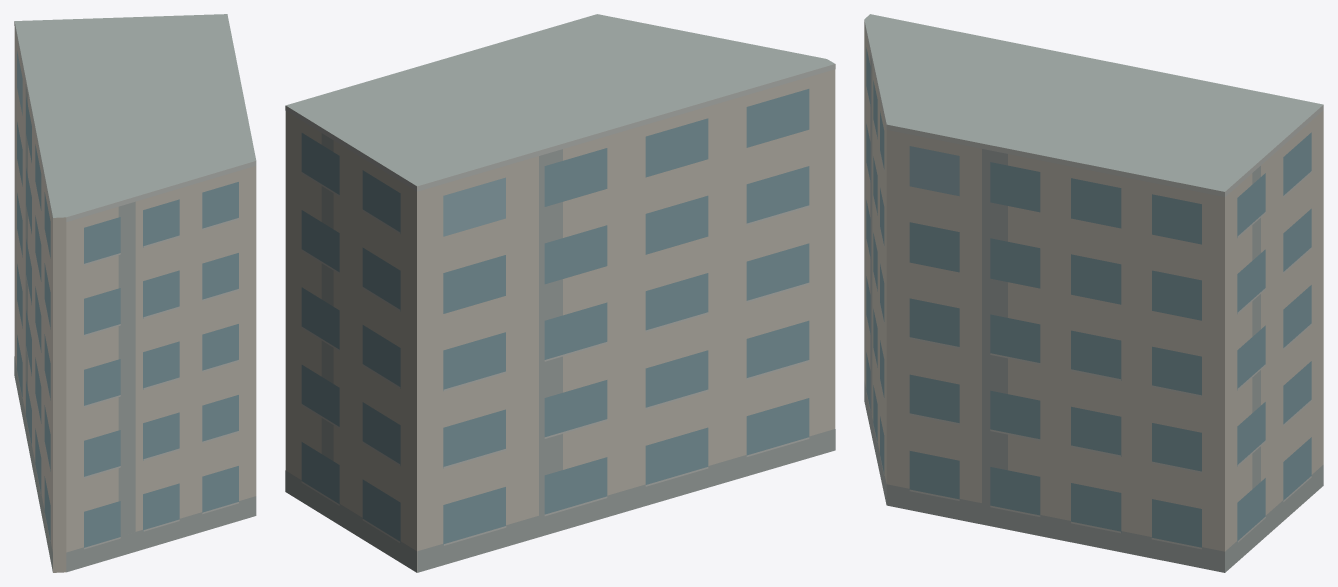
Rendered from survey-upis-32629927.glb.
3 renders of one model, left to right at view 1: azimuth 30°, elevation 25°; view 2: azimuth 150°, elevation 25°; view 3: azimuth 270°, elevation 25°, orthographic. The views are drawn at different scales.
Parts seen in each view (by area): view 1: survey-upis-32629927.tmp; view 2: survey-upis-32629927.tmp; view 3: survey-upis-32629927.tmp.
Boxes of the visible parts, x1,y1,x2,y2 form: survey-upis-32629927.tmp: [14, 14, 256, 572]; survey-upis-32629927.tmp: [285, 14, 835, 572]; survey-upis-32629927.tmp: [864, 14, 1323, 572].
Size of the model in its own units: 17.6 by 17.57 by 19.21.
